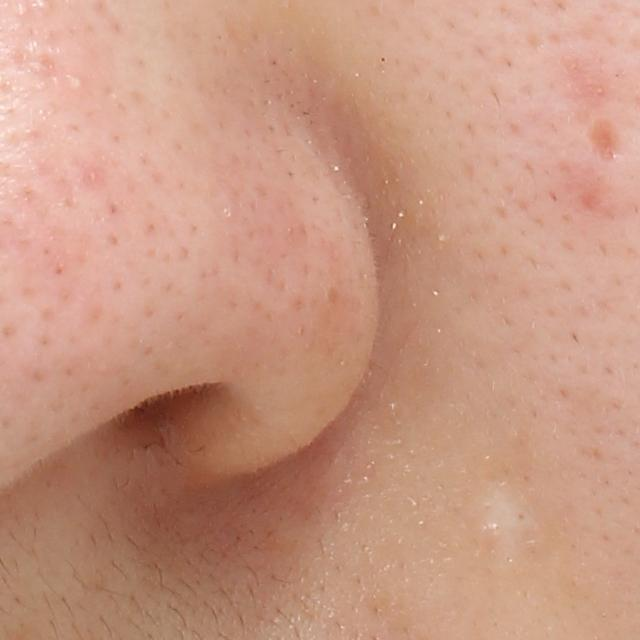atrophic_scar: (581, 118, 626, 165)
